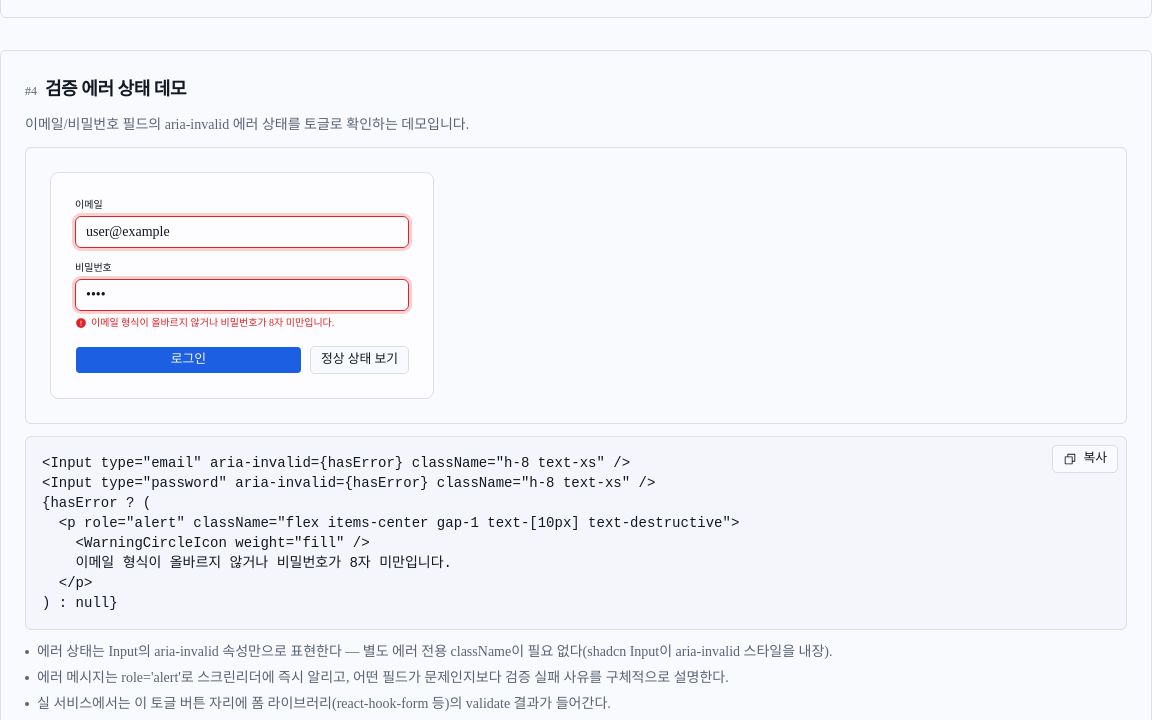
AuthPatternsPage › toggles the validation error state demo
(page scrolled)
Check: the message "이메일 형식이 올바르지 않거나 비밀번호가 8자 미만입니다." is shown, box top-left (75, 316), bottom-right (334, 328)
Click the button "정상 상태 보기" at (360, 360), box top-left (310, 346), bottom-right (409, 374)
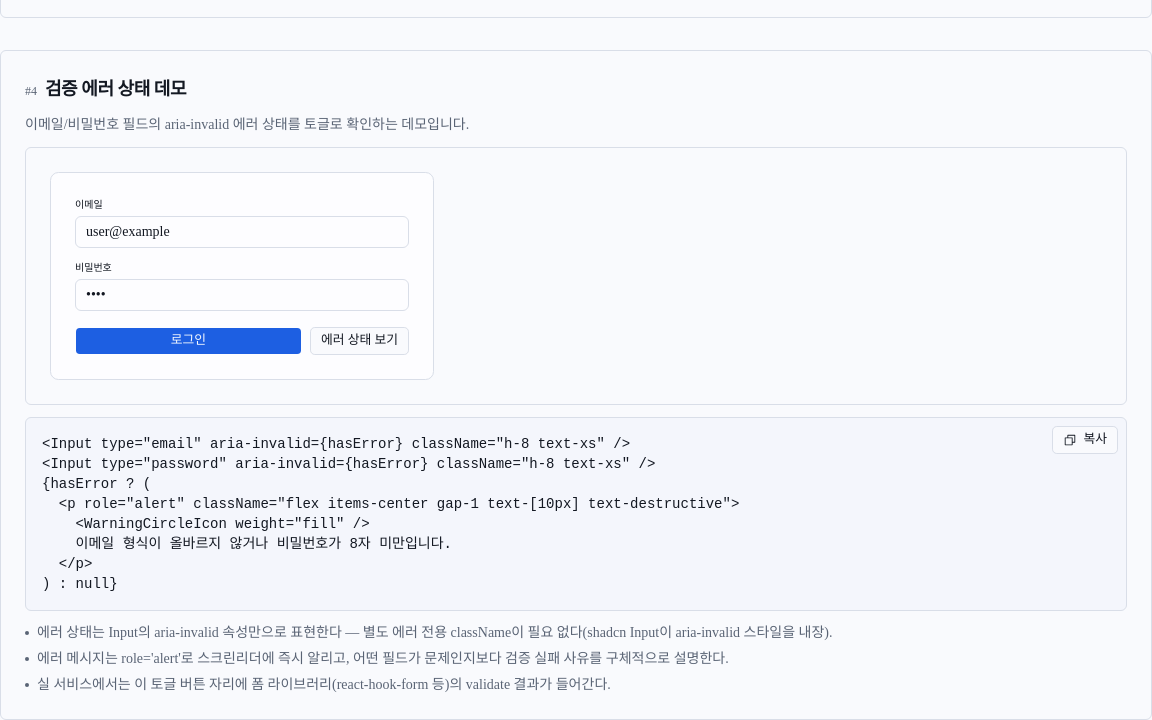
Check: the message "이메일 형식이 올바르지 않거나 비밀번호가 8자 미만입니다." is gone
Click the button "에러 상태 보기" at (360, 341), box top-left (310, 327), bottom-right (409, 355)
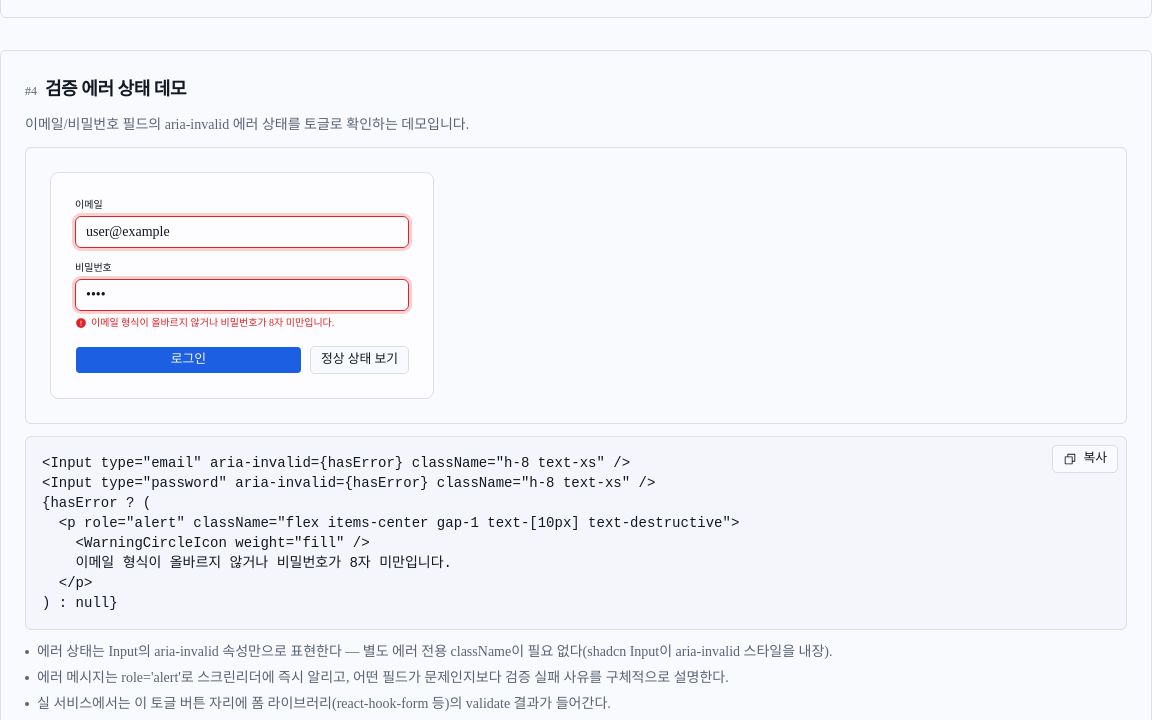
Check: the message "이메일 형식이 올바르지 않거나 비밀번호가 8자 미만입니다." is shown, box top-left (75, 316), bottom-right (334, 328)
